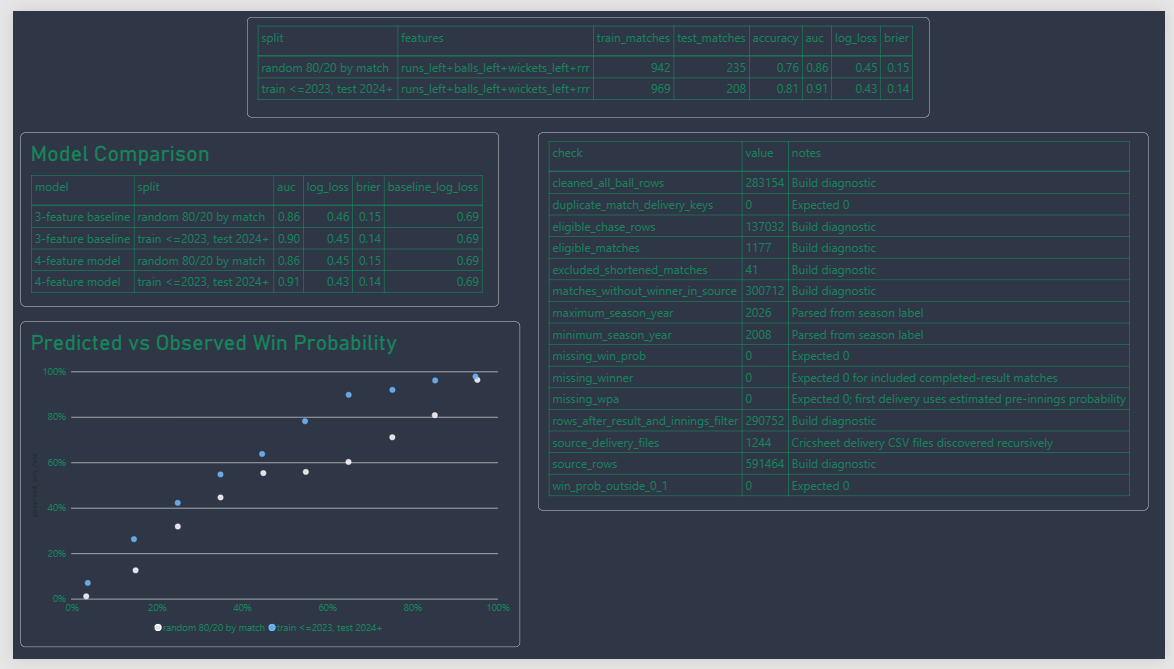

The page's visual inventory and layout, read from the dashboard file:
{"tool":"powerbi","page":{"name":"Model Reliability","canvas":[1920,1080],"ordinal":3},"visuals":[{"type":"tableEx","fields":{"Values":["model_metrics.split","model_metrics.features","model_metrics.train_matches","model_metrics.test_matches","model_metrics.accuracy","model_metrics.auc","model_metrics.log_loss","model_metrics.brier"]},"box":[390,10,1137.5,167.5],"z":0},{"type":"tableEx","title":"Model Comparison","fields":{"Values":["model_comparison.model","model_comparison.split","model_comparison.auc","model_comparison.log_loss","model_comparison.brier","model_comparison.baseline_log_loss"]},"box":[12.5,202.5,797.5,290],"z":1000},{"type":"scatterChart","title":"Predicted vs Observed Win Probability","fields":{"Series":["calibration.split"],"X":["calibration.avg_predicted_probability"],"Y":["calibration.observed_win_rate"]},"box":[12.5,517.5,832.5,542.5],"z":2000},{"type":"tableEx","fields":{"Values":["data_quality.check","data_quality.value","data_quality.notes"]},"box":[875,202.5,1017.5,630],"z":2001}]}

Visuals, with their boxes in screenshot pixels (x1, y1, x2, y2), scaled from the page's 1920x1080 canvas onto the 1174x669 screenshot:
tableEx - model_metrics.split x model_metrics.features: bbox(238, 6, 934, 110)
"Model Comparison" tableEx: bbox(8, 125, 495, 305)
"Predicted vs Observed Win Probability" scatterChart: bbox(8, 321, 517, 657)
tableEx - data_quality.check x data_quality.value: bbox(535, 125, 1157, 516)
